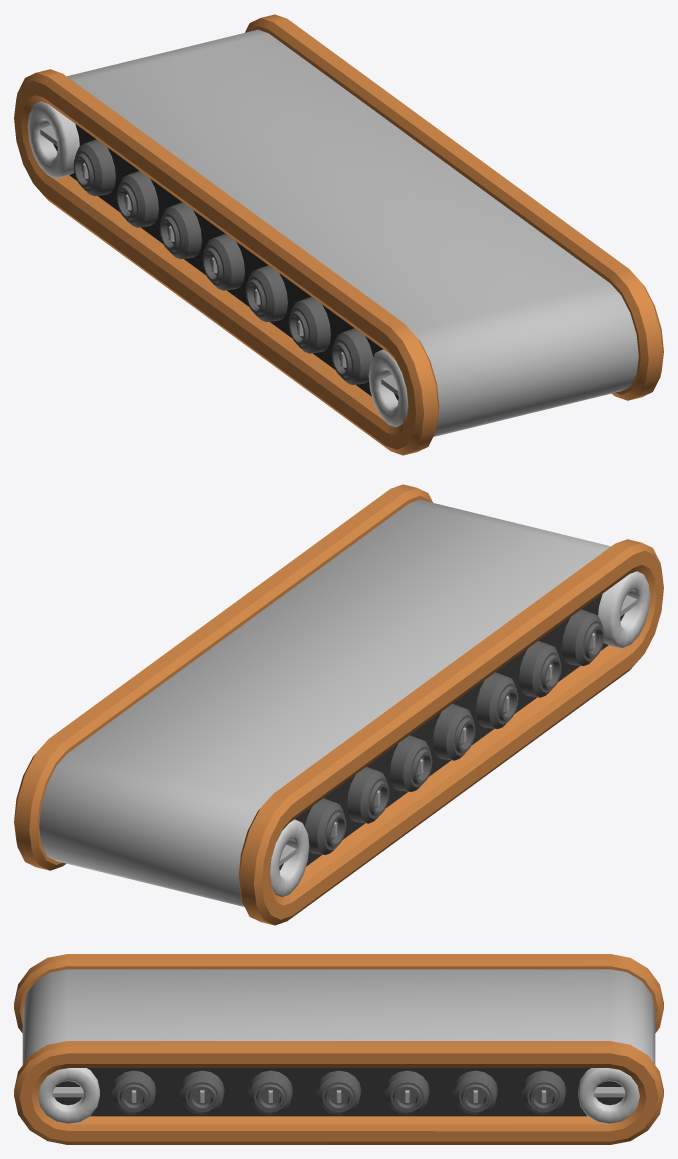
The model's file is Belt_Conveyor (1).fbx.
3 views of the same model, one above another, from view 1: azimuth 30°, elevation 25°; view 2: azimuth 150°, elevation 25°; view 3: azimuth 270°, elevation 25° (orthographic). The views are drawn at different scales.
Visible parts, largest first — view 1: Belt_Ribbon, Belt_Side, Belt_Walls, Belt_Shaft_01, Belt_Shaft_02, Belt_Roller_07, Belt_Roller_05, Belt_Roller_03, Belt_Roller_06, Belt_Roller_04, Belt_Roller_02, Belt_Roller_01; view 2: Belt_Ribbon, Belt_Side, Belt_Walls, Belt_Shaft_02, Belt_Shaft_01, Belt_Roller_01, Belt_Roller_05, Belt_Roller_03, Belt_Roller_06, Belt_Roller_04, Belt_Roller_02, Belt_Roller_07; view 3: Belt_Side, Belt_Ribbon, Belt_Walls, Belt_Shaft_01, Belt_Shaft_02, Belt_Roller_11, Belt_Roller_08, Belt_Roller_14, Belt_Roller_09, Belt_Roller_10, Belt_Roller_12, Belt_Roller_13.
Boxes of the visible parts, x1,y1,x2,y2 form: Belt_Ribbon: [67, 29, 638, 436]; Belt_Side: [14, 14, 663, 455]; Belt_Walls: [53, 124, 398, 400]; Belt_Shaft_01: [27, 101, 79, 178]; Belt_Shaft_02: [368, 349, 407, 427]; Belt_Roller_07: [73, 139, 115, 196]; Belt_Roller_05: [159, 202, 201, 259]; Belt_Roller_03: [245, 265, 287, 321]; Belt_Roller_06: [116, 171, 158, 227]; Belt_Roller_04: [202, 234, 244, 290]; Belt_Roller_02: [288, 297, 330, 353]; Belt_Roller_01: [331, 328, 372, 384]; Belt_Ribbon: [39, 499, 610, 906]; Belt_Side: [14, 484, 663, 925]; Belt_Walls: [279, 594, 624, 870]; Belt_Shaft_02: [598, 571, 650, 648]; Belt_Shaft_01: [270, 819, 309, 897]; Belt_Roller_01: [562, 609, 604, 666]; Belt_Roller_05: [390, 735, 432, 791]; Belt_Roller_03: [476, 672, 518, 729]; Belt_Roller_06: [347, 767, 389, 823]; Belt_Roller_04: [433, 704, 475, 760]; Belt_Roller_02: [519, 641, 561, 697]; Belt_Roller_07: [305, 798, 346, 854]; Belt_Side: [14, 954, 663, 1144]; Belt_Ribbon: [22, 969, 655, 1064]; Belt_Walls: [54, 1068, 623, 1116]; Belt_Shaft_01: [578, 1068, 639, 1123]; Belt_Shaft_02: [38, 1068, 99, 1123]; Belt_Roller_11: [316, 1070, 361, 1114]; Belt_Roller_08: [111, 1070, 156, 1114]; Belt_Roller_14: [521, 1070, 566, 1114]; Belt_Roller_09: [180, 1070, 224, 1114]; Belt_Roller_10: [248, 1070, 292, 1114]; Belt_Roller_12: [385, 1070, 429, 1114]; Belt_Roller_13: [453, 1070, 497, 1114].
Bounding box in the file's own units: 147 × 68.14 × 408.
